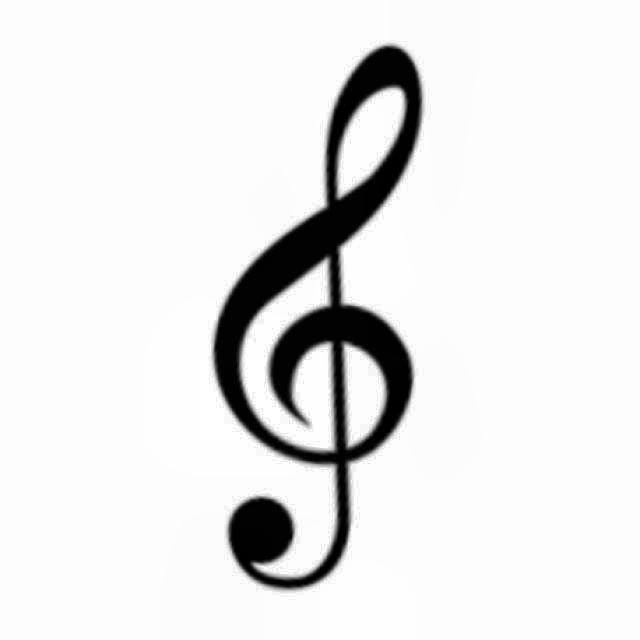Treble-clef: (196, 35, 430, 592)
